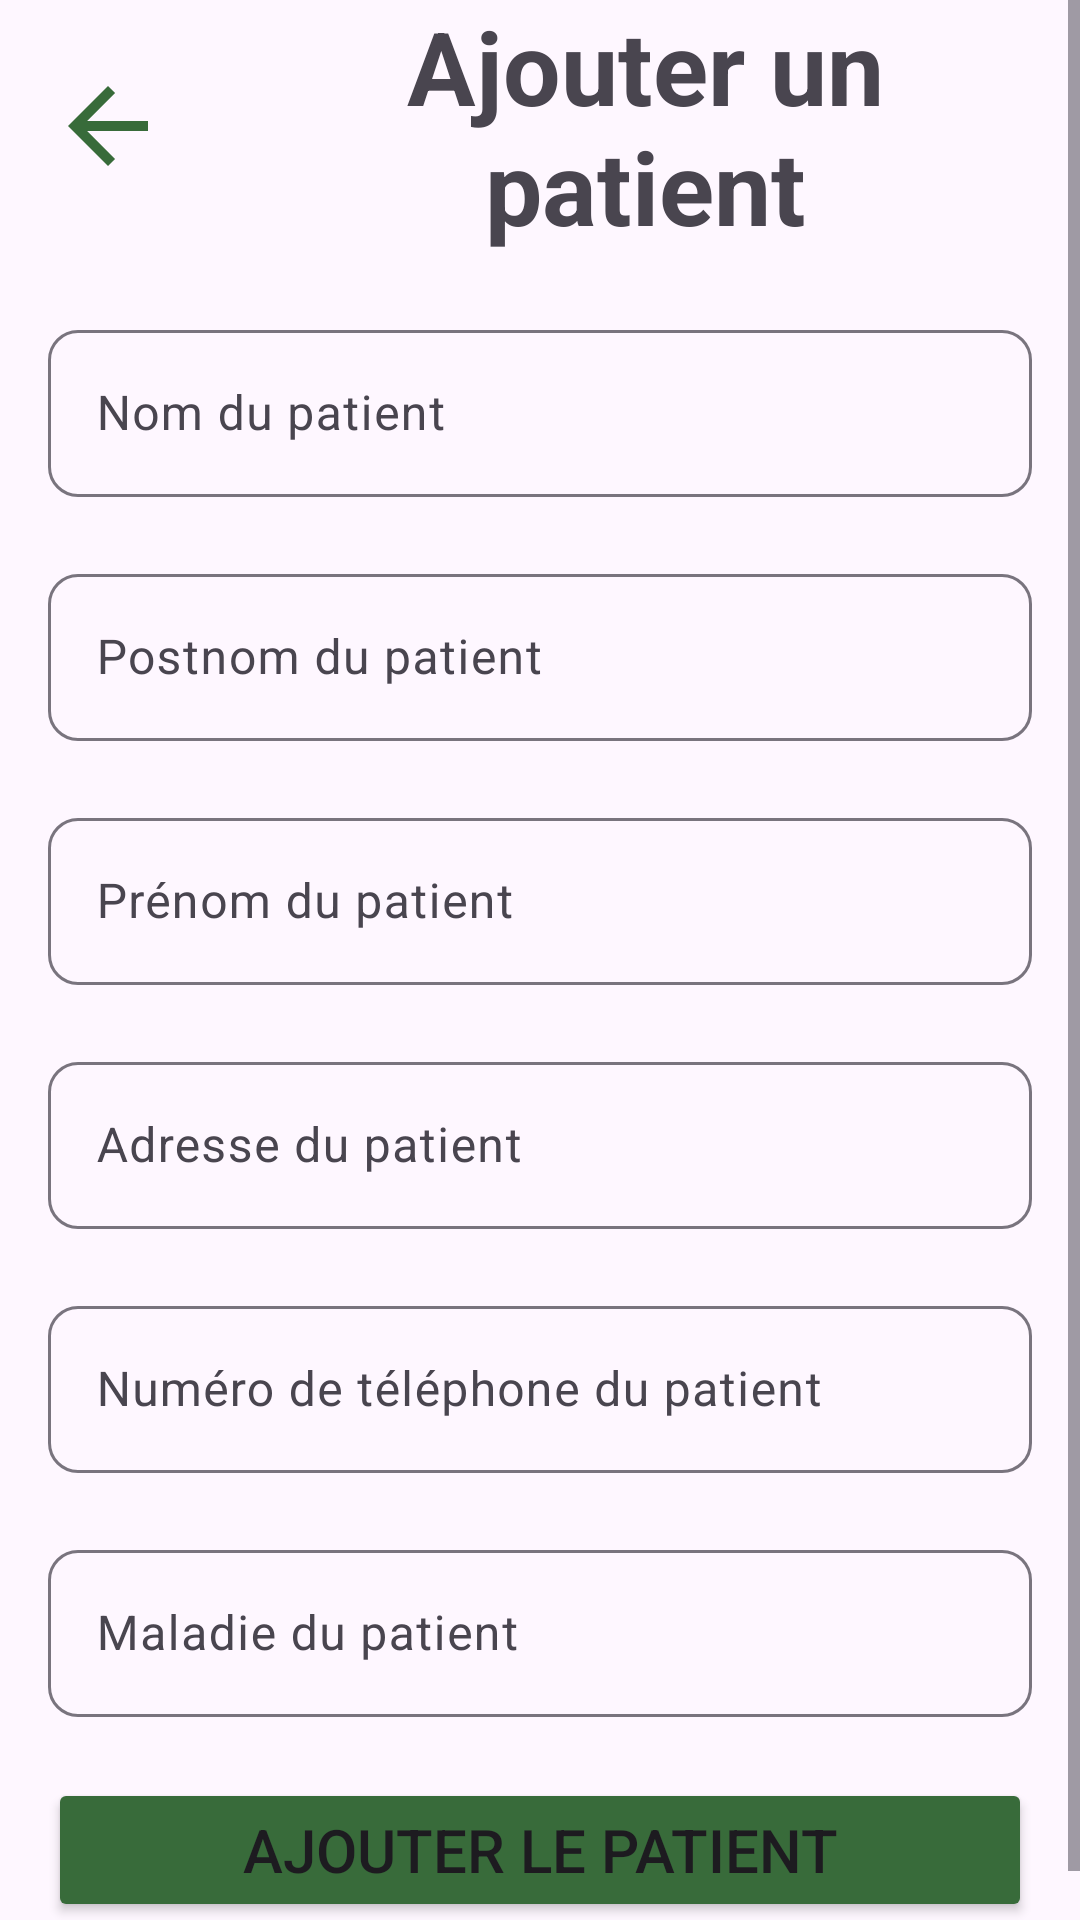

Icon click points for this 1080×1920 phone screenshot, format [x,y]:
arrow back: [108,126]
